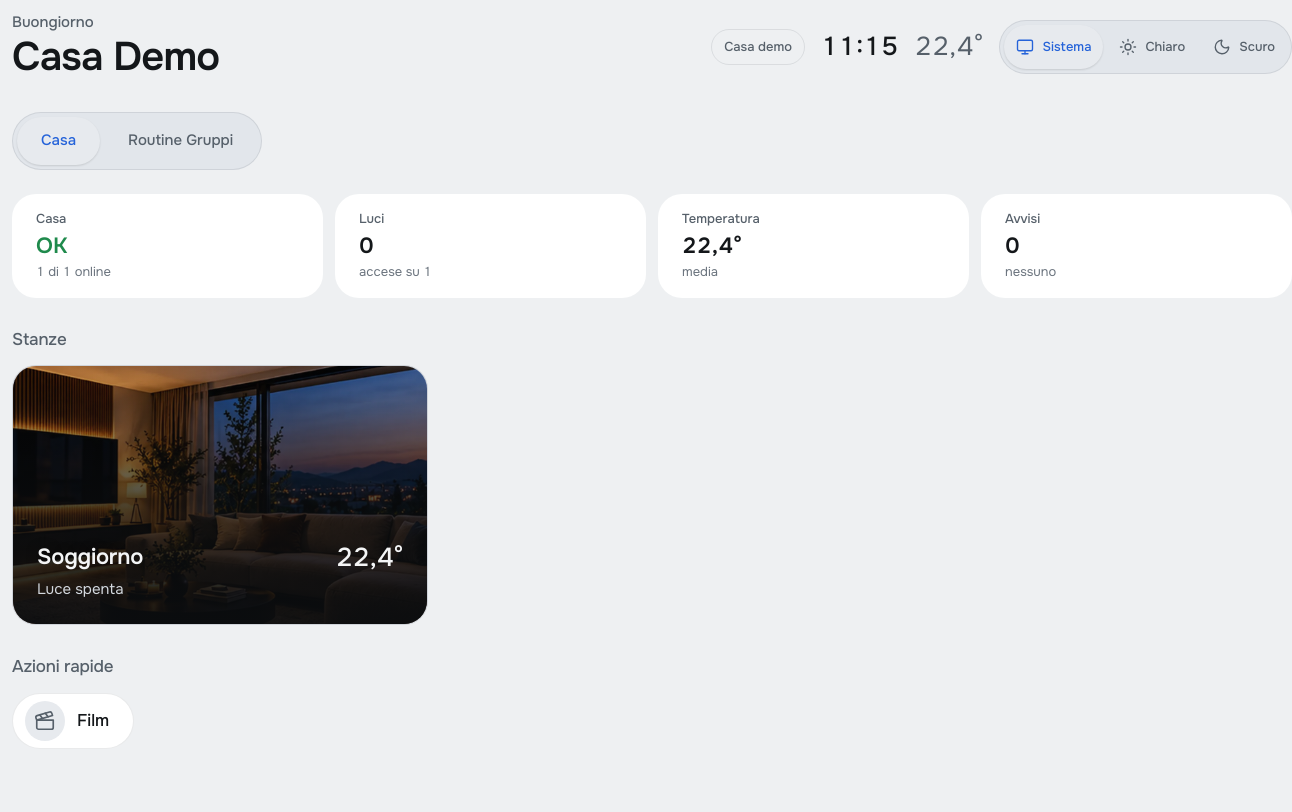
Test: HomePage tabs › executes a routine through the backend and confirms it
Expected: the heading "Stanze" is shown, [12,329,66,350]
Click the tab "Routine Gruppi". click: click(181, 141)
box: [104,117,257,165]
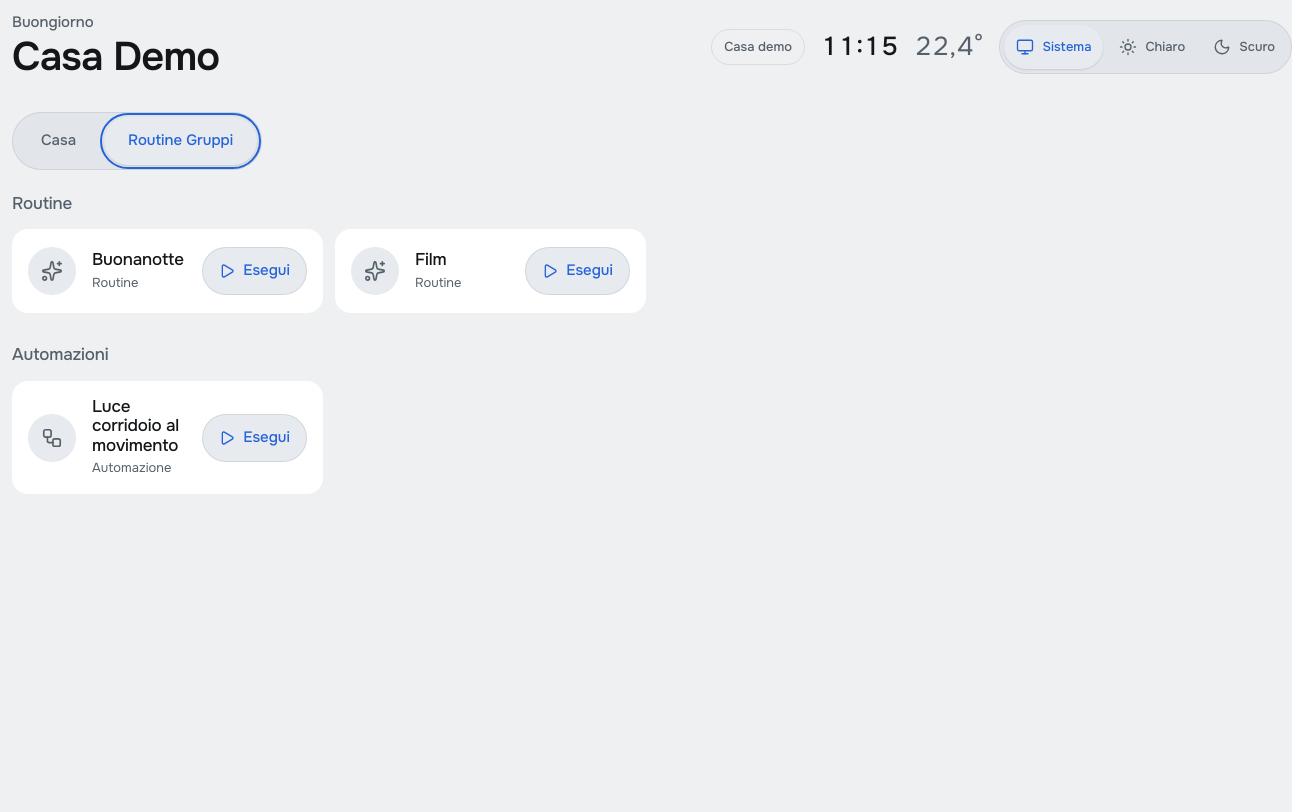
Click the button with aria-label "Esegui Buonanotte". click: click(255, 271)
box: [202,247,307,295]
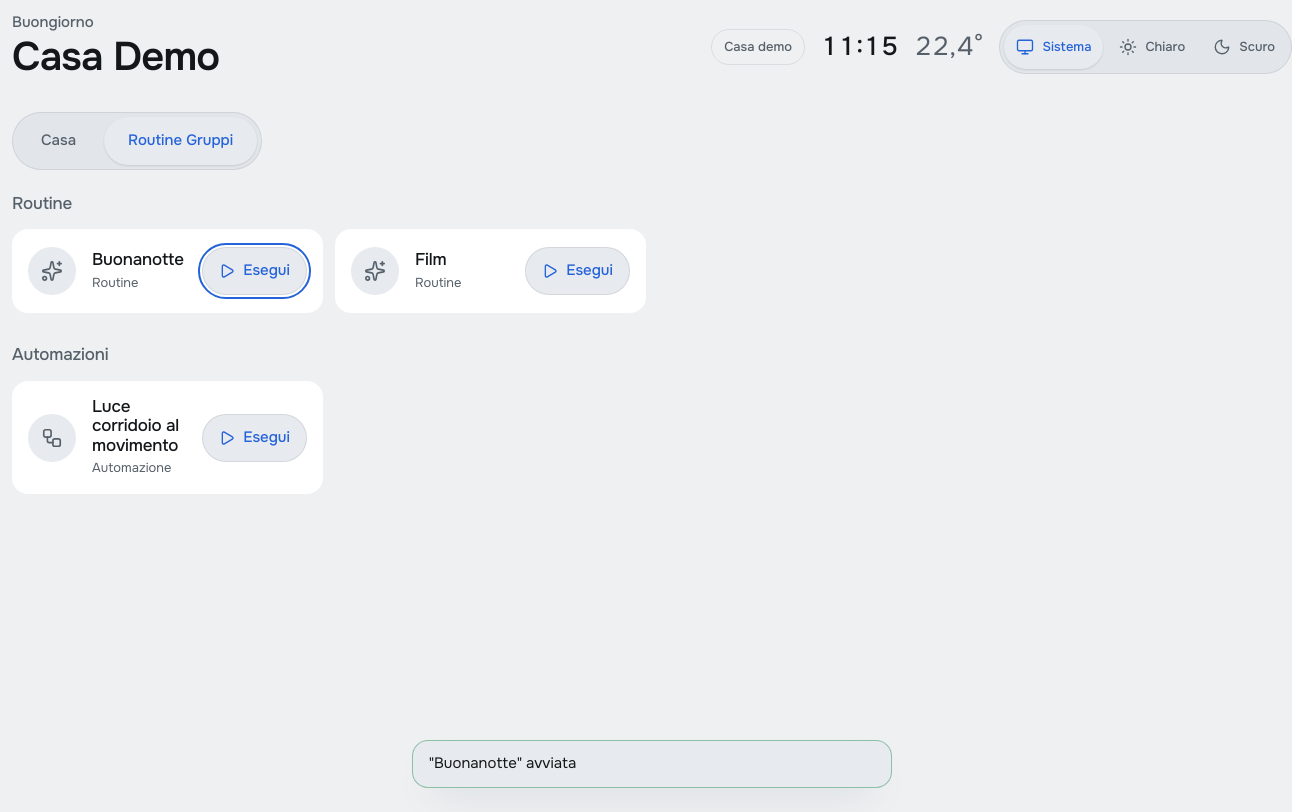
Expected: the button "\"Buonanotte\" avviata" is shown, [412,740,892,788]
